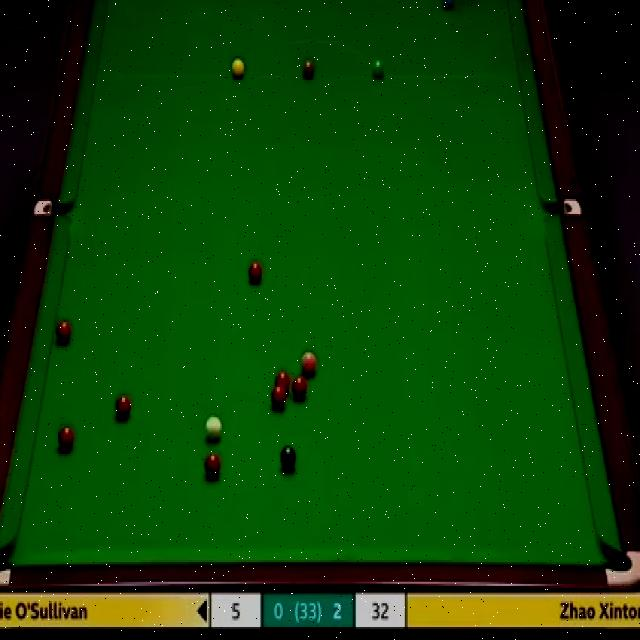black-ball: (280, 445, 298, 473)
blue-ball: (439, 0, 456, 11)
brown-ball: (301, 59, 316, 82)
green-ball: (371, 58, 386, 82)
pink-ball: (298, 351, 318, 377)
red-ball: (57, 424, 75, 454), (114, 395, 132, 424), (204, 452, 221, 479), (247, 259, 264, 286), (54, 319, 71, 345), (290, 375, 308, 399), (270, 386, 287, 411), (274, 371, 292, 393)
white-ball: (205, 415, 222, 441)
yellow-ball: (231, 58, 246, 80)
